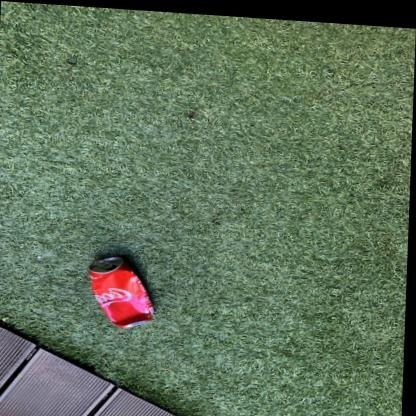trash: (88, 256, 153, 327)
